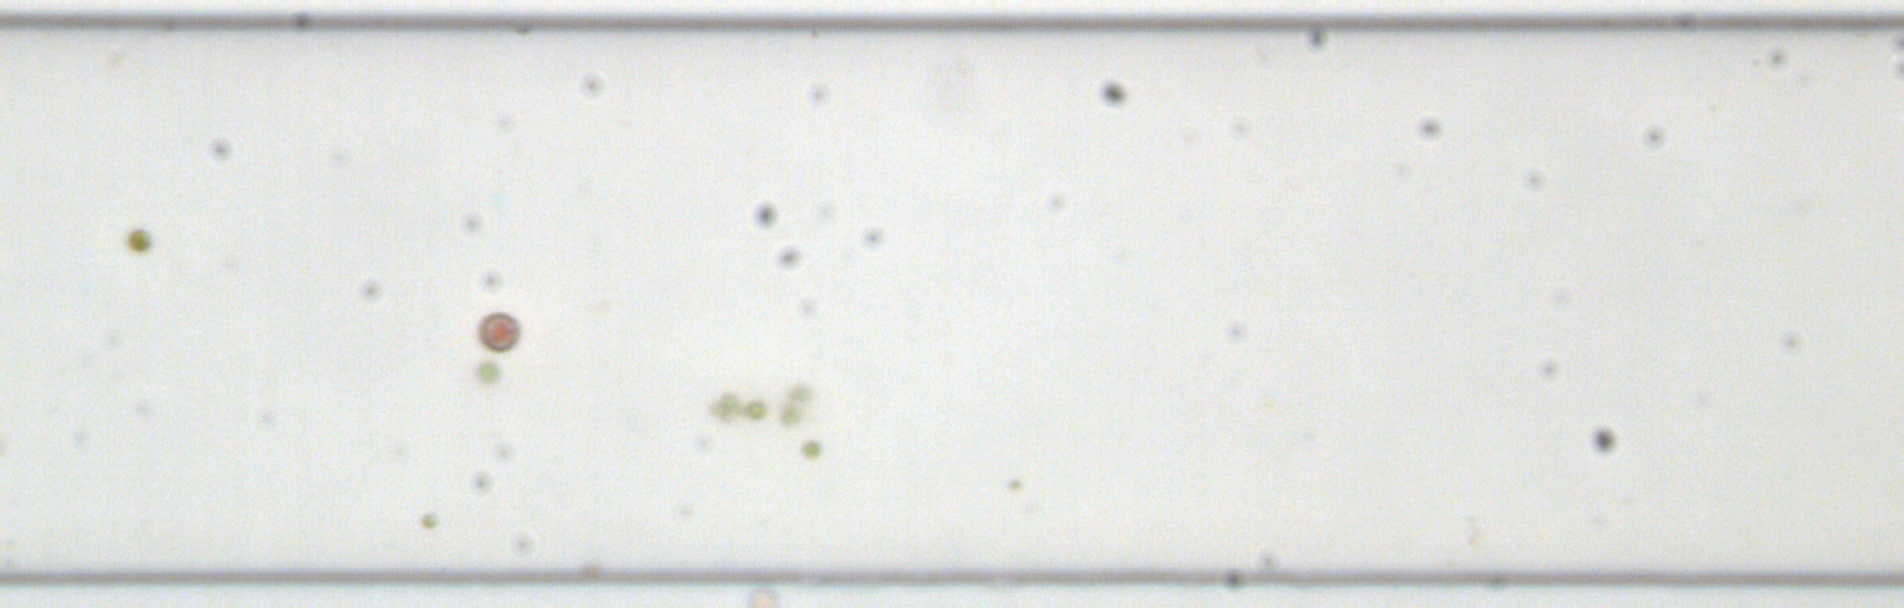Chlorella: (126, 228, 151, 251), (780, 402, 801, 425), (746, 396, 766, 420), (474, 359, 499, 379), (418, 508, 440, 528), (799, 438, 821, 458), (718, 390, 737, 409), (788, 383, 809, 402)
Porphyridium: (474, 308, 523, 356)
